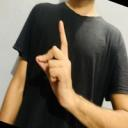hand: (35, 20, 73, 107)
